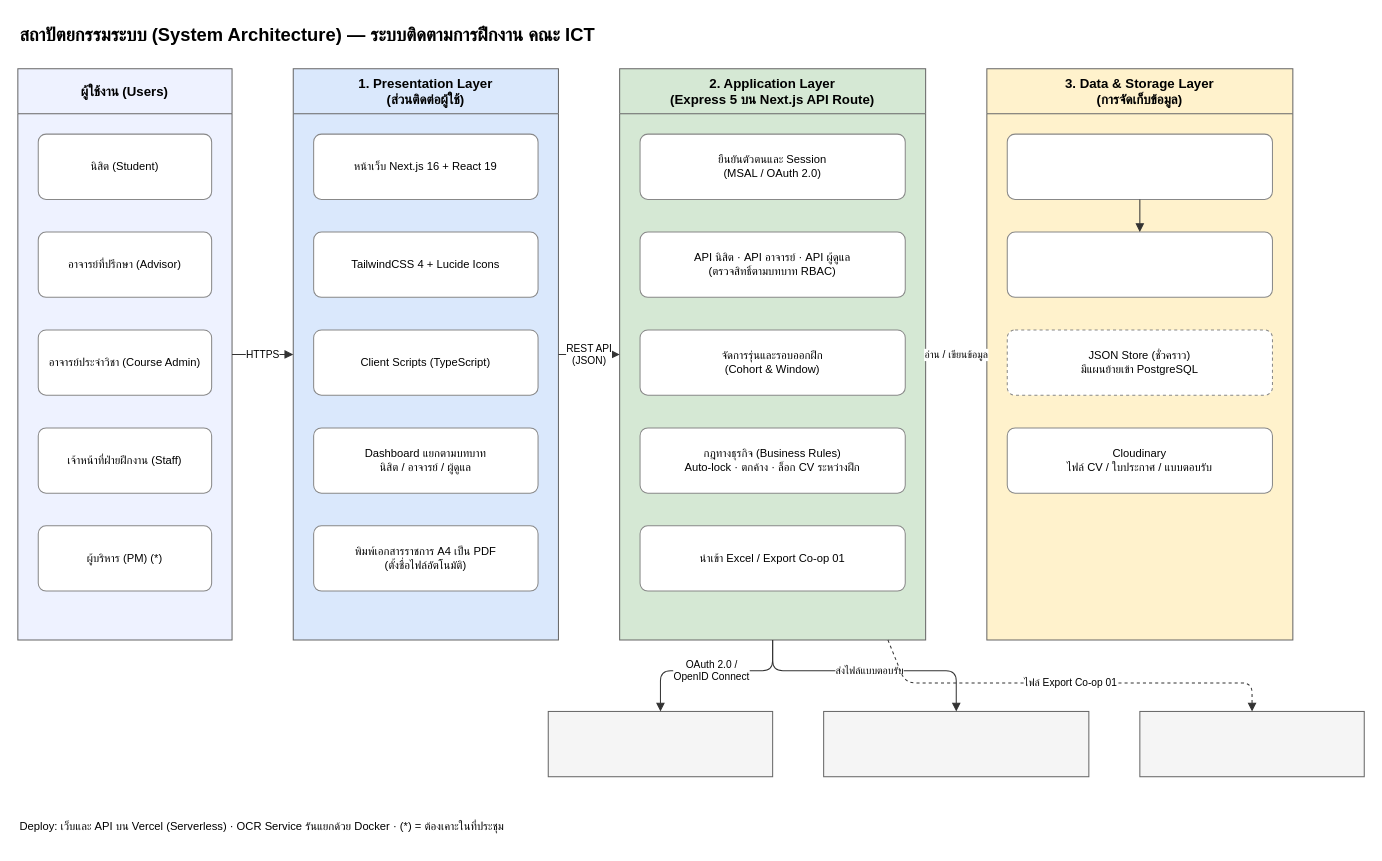
This 1382x861 diagram has some shape labels left out. The centre of each missing label's shape, as x and y in pixels:
4. AI Microservice OCR Service — Python FastAPI + PaddleOCR (อ่านแบบตอบรับ): point 956,743
Microsoft Entra ID (บัญชี @up.ac.th): point 660,743
PostgreSQL (Neon Cloud) 14 ตาราง: point 1139,264
Prisma ORM 7: point 1139,166
ระบบ Co-op กลาง (*) (University Co-op System): point 1251,743
